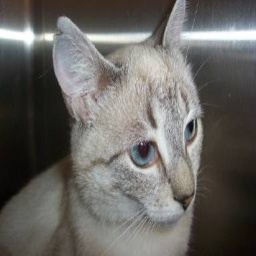cat: (3, 2, 202, 256)
